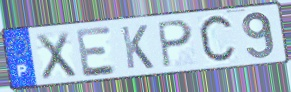9: (241, 11, 277, 61)
C: (197, 12, 238, 67)
E: (73, 24, 118, 79)
K: (119, 24, 156, 71)
P: (155, 19, 195, 70)
X: (34, 30, 79, 82)
